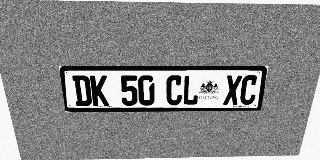0: (138, 75, 154, 106)
5: (120, 75, 138, 106)
C: (239, 75, 259, 105), (166, 75, 183, 105)
D: (72, 75, 92, 106)
K: (90, 75, 109, 106)
L: (182, 75, 200, 105)
X: (223, 75, 242, 105)
